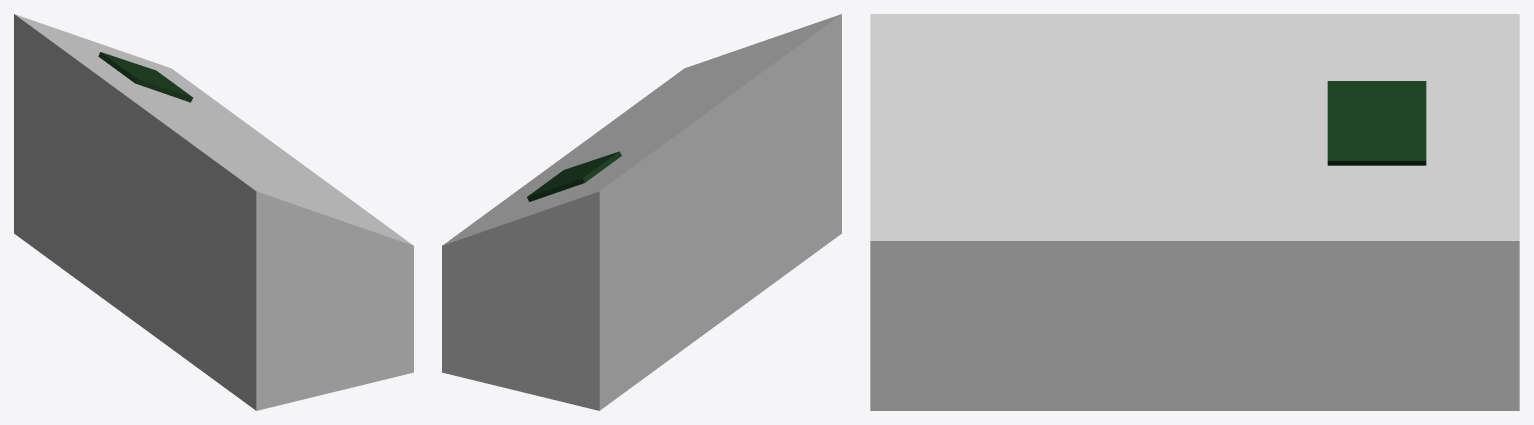
Rendered from power console.fbx.
The picture shows the model from 3 angles, left to right: view 1: azimuth 30°, elevation 25°; view 2: azimuth 150°, elevation 25°; view 3: azimuth 270°, elevation 25°; orthographic projection. The views are drawn at different scales.
Visible parts, largest first — view 1: Cube; view 2: Cube; view 3: Cube.
Boxes of the visible parts, x1,y1,x2,y2 form: Cube: (14,14,413,410); Cube: (442,14,841,410); Cube: (870,14,1519,410).
Size of the model in its own units: 150 by 200 by 400.
